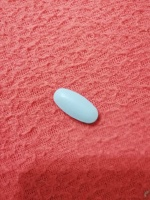Apranax: (52, 87, 100, 126)
